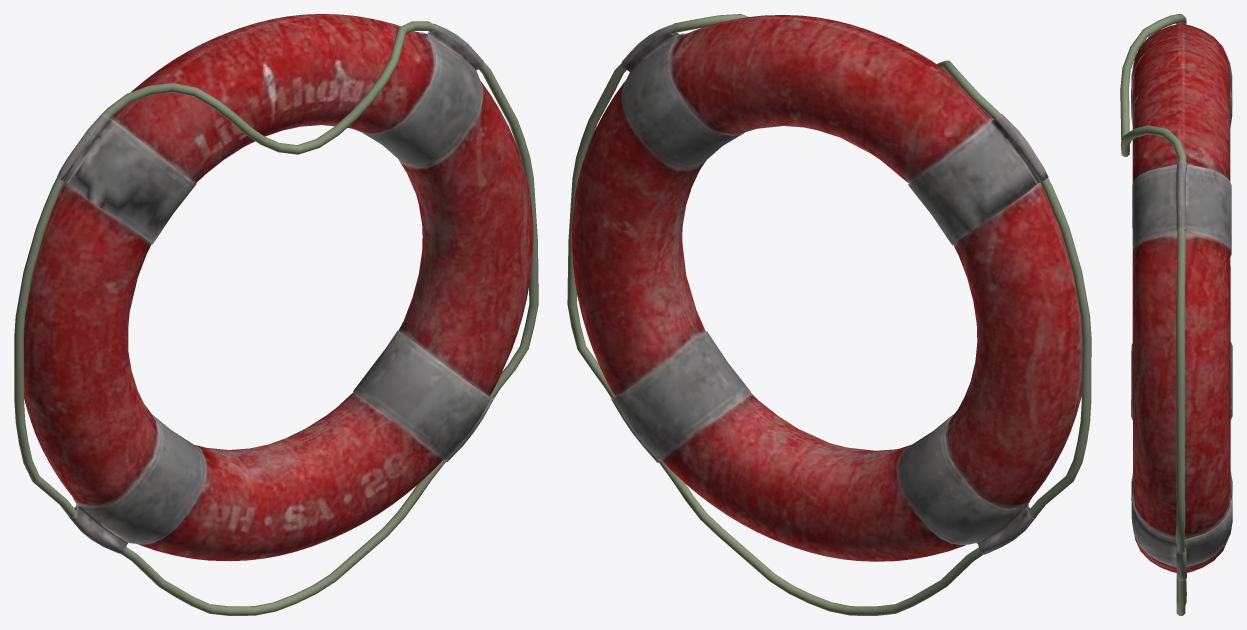
File: lifebuoy.glb
The picture shows the model from 3 angles, left to right: view 1: azimuth 30°, elevation 25°; view 2: azimuth 150°, elevation 25°; view 3: azimuth 270°, elevation 25°; orthographic projection. The views are drawn at different scales.
Parts seen in each view (by area): view 1: lifebuoy; view 2: lifebuoy; view 3: lifebuoy.
Part boxes in pixels (x1,y1,x2,y2): lifebuoy: (14, 14, 538, 615); lifebuoy: (567, 14, 1091, 615); lifebuoy: (1120, 14, 1232, 615).
Size of the model in its own units: 0.783 by 0.8412 by 0.1548.
1 material, 1 textured.
